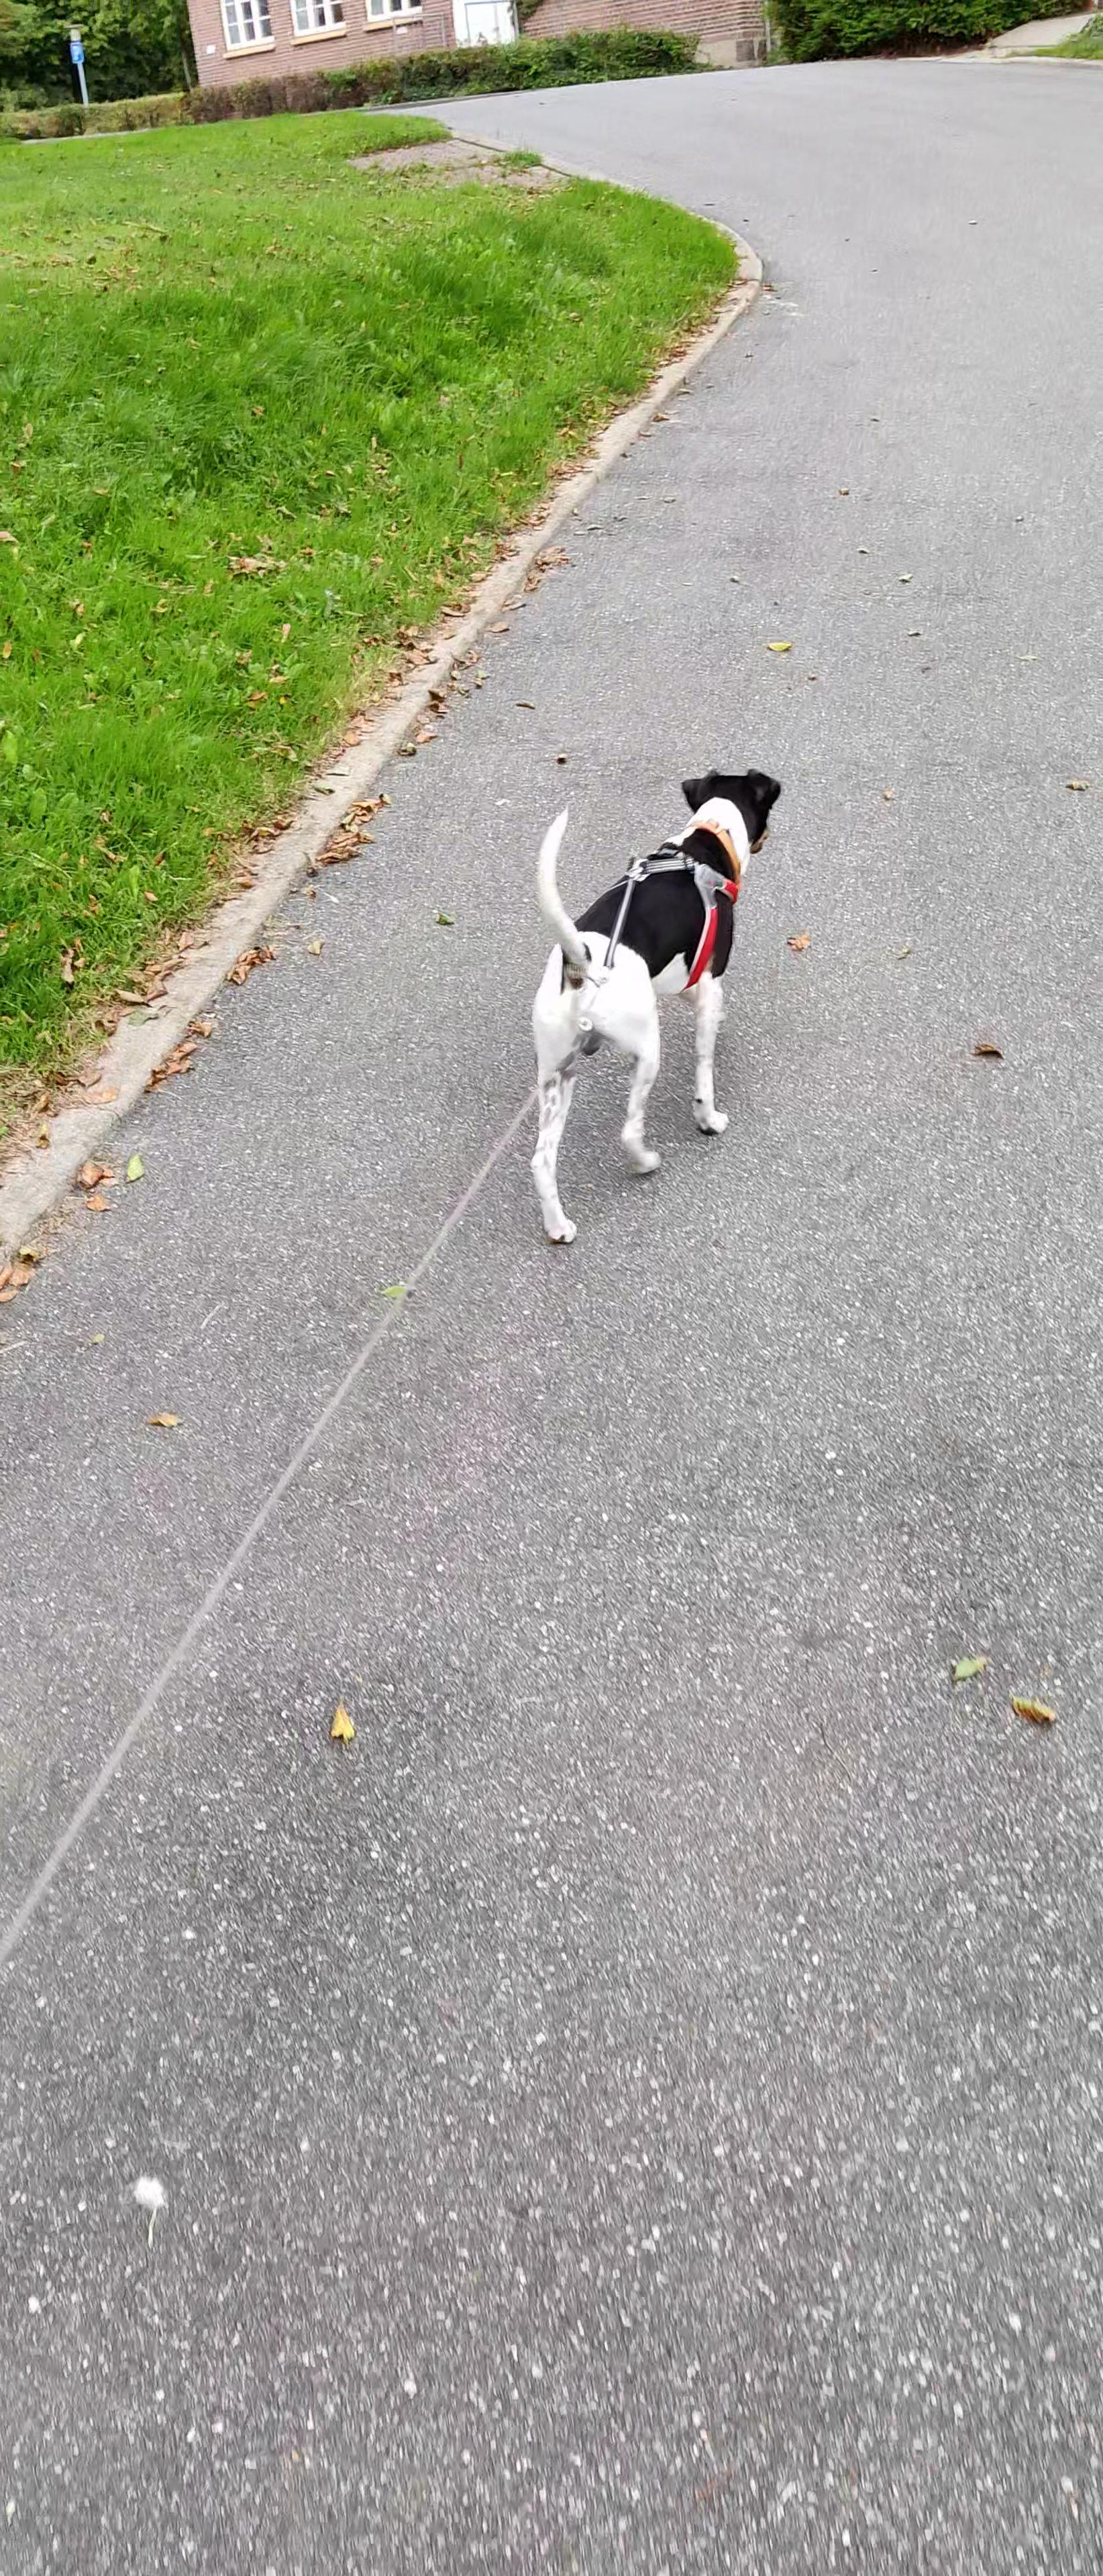Dog: (480, 734, 814, 1272)
